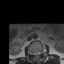CCS_normal: (36, 49, 38, 58)
LFS_normal: (40, 49, 42, 55)
LLS_normal: (38, 49, 40, 57)
RFS_normal: (31, 50, 33, 56)
RLS_normal: (33, 50, 36, 57)
